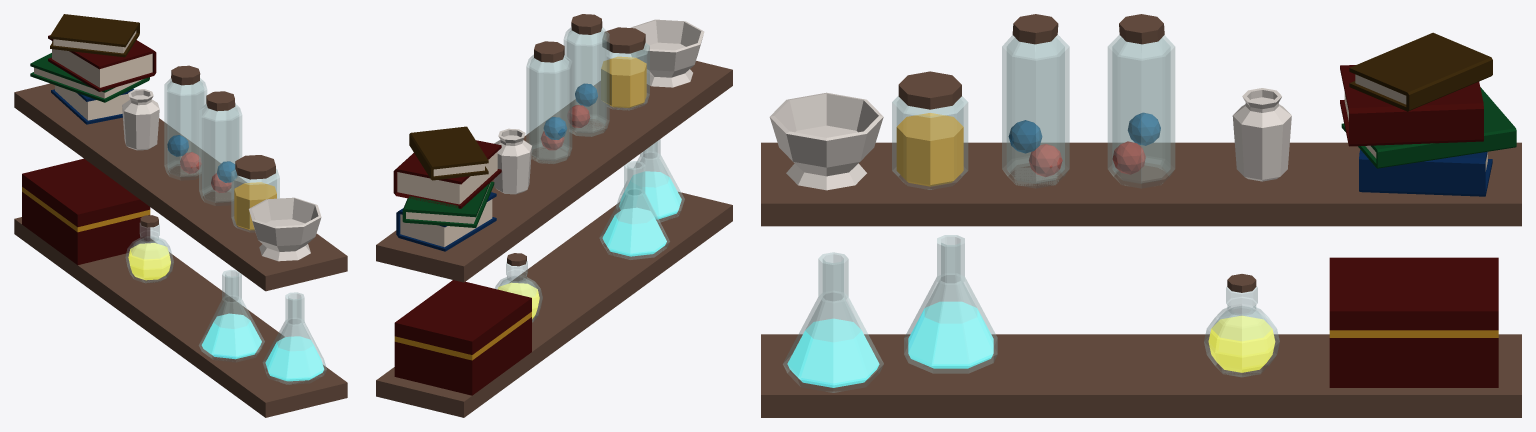
The picture shows the model from 3 angles, left to right: view 1: azimuth 30°, elevation 25°; view 2: azimuth 150°, elevation 25°; view 3: azimuth 270°, elevation 25°; orthographic projection. The views are drawn at different scales.
Parts seen in each view (by area): view 1: ShelfWall_0.5x2x2_proxy.001_0, ShelfWall_0.5x2x2_proxy.001_8, ShelfWall_0.5x2x2_proxy.001_5, ShelfWall_0.5x2x2_proxy.001_1, ShelfWall_0.5x2x2_proxy.001_3, ShelfWall_0.5x2x2_proxy.001_13, ShelfWall_0.5x2x2_proxy.001_6, ShelfWall_0.5x2x2_proxy.001_12, ShelfWall_0.5x2x2_proxy.001_9, ShelfWall_0.5x2x2_proxy.001_4, ShelfWall_0.5x2x2_proxy.001_7, ShelfWall_0.5x2x2_proxy.001_10 (+2 smaller); view 2: ShelfWall_0.5x2x2_proxy.001_0, ShelfWall_0.5x2x2_proxy.001_8, ShelfWall_0.5x2x2_proxy.001_5, ShelfWall_0.5x2x2_proxy.001_1, ShelfWall_0.5x2x2_proxy.001_13, ShelfWall_0.5x2x2_proxy.001_3, ShelfWall_0.5x2x2_proxy.001_6, ShelfWall_0.5x2x2_proxy.001_9, ShelfWall_0.5x2x2_proxy.001_4, ShelfWall_0.5x2x2_proxy.001_10, ShelfWall_0.5x2x2_proxy.001_7, ShelfWall_0.5x2x2_proxy.001_2 (+2 smaller); view 3: ShelfWall_0.5x2x2_proxy.001_0, ShelfWall_0.5x2x2_proxy.001_8, ShelfWall_0.5x2x2_proxy.001_5, ShelfWall_0.5x2x2_proxy.001_1, ShelfWall_0.5x2x2_proxy.001_13, ShelfWall_0.5x2x2_proxy.001_6, ShelfWall_0.5x2x2_proxy.001_2, ShelfWall_0.5x2x2_proxy.001_9, ShelfWall_0.5x2x2_proxy.001_4, ShelfWall_0.5x2x2_proxy.001_12, ShelfWall_0.5x2x2_proxy.001_10, ShelfWall_0.5x2x2_proxy.001_11 (+1 smaller).
Part boxes in pixels (x1=…): ShelfWall_0.5x2x2_proxy.001_0: x1=14, y1=65, x2=347, y2=417; ShelfWall_0.5x2x2_proxy.001_8: x1=125, y1=78, x2=326, y2=384; ShelfWall_0.5x2x2_proxy.001_5: x1=22, y1=35, x2=156, y2=264; ShelfWall_0.5x2x2_proxy.001_1: x1=122, y1=89, x2=321, y2=261; ShelfWall_0.5x2x2_proxy.001_3: x1=34, y1=30, x2=152, y2=120; ShelfWall_0.5x2x2_proxy.001_13: x1=201, y1=313, x2=324, y2=381; ShelfWall_0.5x2x2_proxy.001_6: x1=50, y1=14, x2=139, y2=57; ShelfWall_0.5x2x2_proxy.001_12: x1=128, y1=243, x2=170, y2=280; ShelfWall_0.5x2x2_proxy.001_9: x1=234, y1=182, x2=276, y2=230; ShelfWall_0.5x2x2_proxy.001_4: x1=30, y1=53, x2=149, y2=102; ShelfWall_0.5x2x2_proxy.001_7: x1=22, y1=187, x2=150, y2=232; ShelfWall_0.5x2x2_proxy.001_10: x1=167, y1=135, x2=237, y2=182; ShelfWall_0.5x2x2_proxy.001_0: x1=376, y1=14, x2=732, y2=417; ShelfWall_0.5x2x2_proxy.001_8: x1=495, y1=27, x2=684, y2=322; ShelfWall_0.5x2x2_proxy.001_5: x1=393, y1=140, x2=531, y2=395; ShelfWall_0.5x2x2_proxy.001_1: x1=494, y1=19, x2=704, y2=194; ShelfWall_0.5x2x2_proxy.001_13: x1=602, y1=171, x2=681, y2=256; ShelfWall_0.5x2x2_proxy.001_3: x1=397, y1=152, x2=497, y2=247; ShelfWall_0.5x2x2_proxy.001_6: x1=409, y1=126, x2=488, y2=180; ShelfWall_0.5x2x2_proxy.001_9: x1=601, y1=56, x2=646, y2=107; ShelfWall_0.5x2x2_proxy.001_4: x1=402, y1=181, x2=494, y2=227; ShelfWall_0.5x2x2_proxy.001_10: x1=543, y1=83, x2=597, y2=139; ShelfWall_0.5x2x2_proxy.001_7: x1=394, y1=311, x2=531, y2=360; ShelfWall_0.5x2x2_proxy.001_2: x1=396, y1=192, x2=496, y2=251; ShelfWall_0.5x2x2_proxy.001_0: x1=761, y1=14, x2=1521, y2=417; ShelfWall_0.5x2x2_proxy.001_8: x1=783, y1=35, x2=1279, y2=392; ShelfWall_0.5x2x2_proxy.001_5: x1=1329, y1=65, x2=1498, y2=387; ShelfWall_0.5x2x2_proxy.001_1: x1=769, y1=88, x2=1291, y2=190; ShelfWall_0.5x2x2_proxy.001_13: x1=787, y1=301, x2=993, y2=387; ShelfWall_0.5x2x2_proxy.001_6: x1=1349, y1=32, x2=1492, y2=111; ShelfWall_0.5x2x2_proxy.001_2: x1=1359, y1=150, x2=1492, y2=196; ShelfWall_0.5x2x2_proxy.001_9: x1=896, y1=113, x2=963, y2=186; ShelfWall_0.5x2x2_proxy.001_4: x1=1341, y1=87, x2=1516, y2=168; ShelfWall_0.5x2x2_proxy.001_12: x1=1208, y1=315, x2=1275, y2=372; ShelfWall_0.5x2x2_proxy.001_10: x1=1008, y1=112, x2=1160, y2=153; ShelfWall_0.5x2x2_proxy.001_11: x1=1029, y1=141, x2=1145, y2=176.
Size of the model in its own units: 0.3658 by 0.96 by 1.8.
